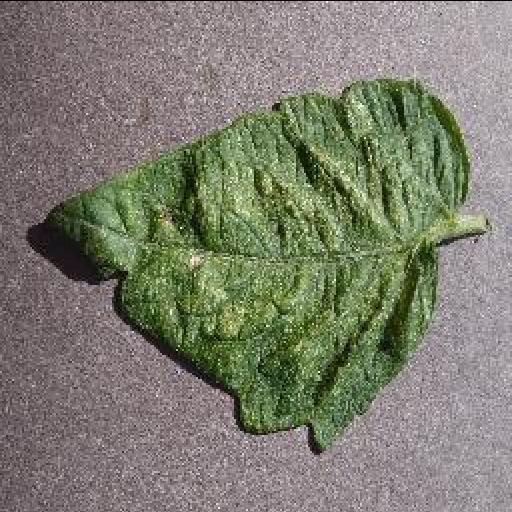disease_tomato: (40, 78, 470, 450)
